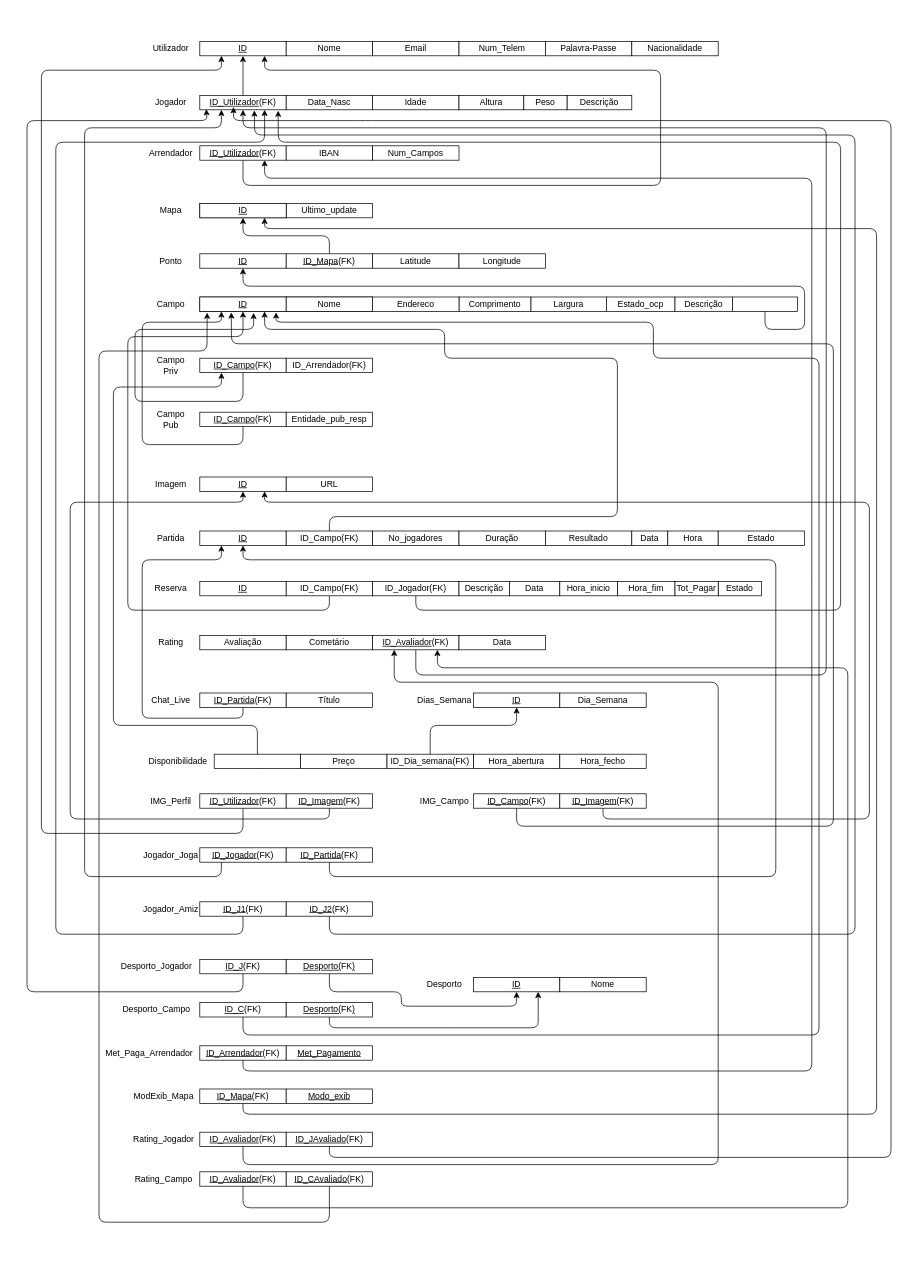
The diagram is 917 pixels wide and 1270 high, and some of its shapes have lost their labels. Each missing label, with the centre of its shape:
ID_Campo_Priv (FK): (257,761)
ID_Ponto(FK): (764,303)
